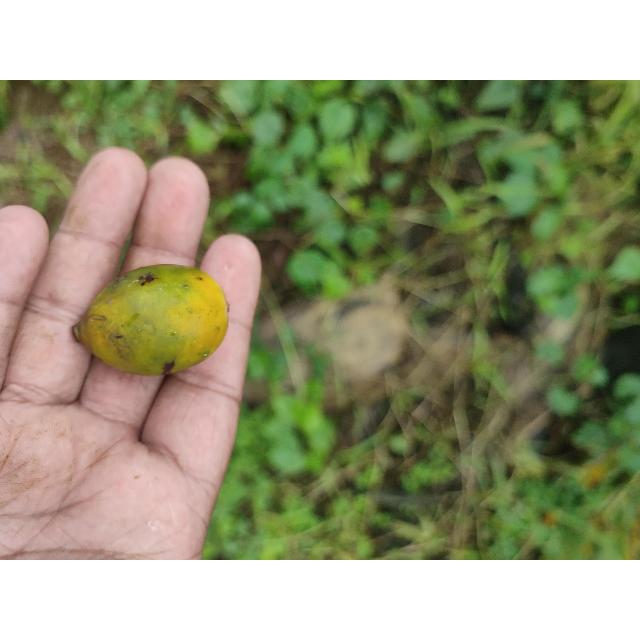damaged: (71, 265, 230, 377)
